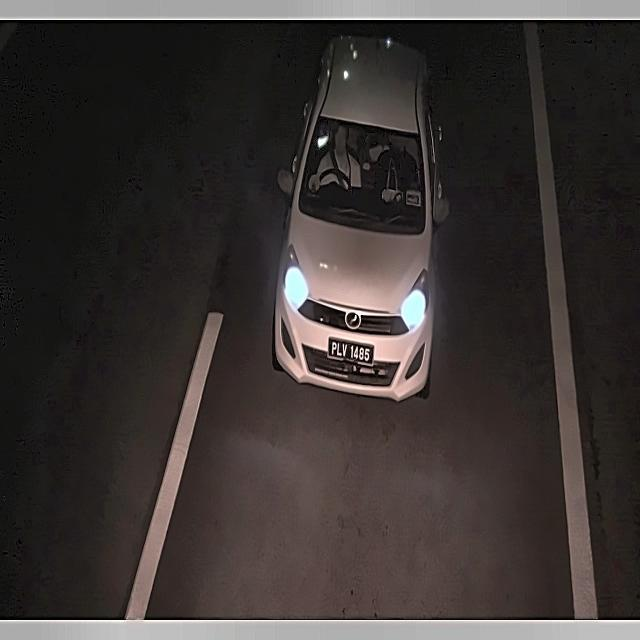car: (326, 331, 378, 371)
